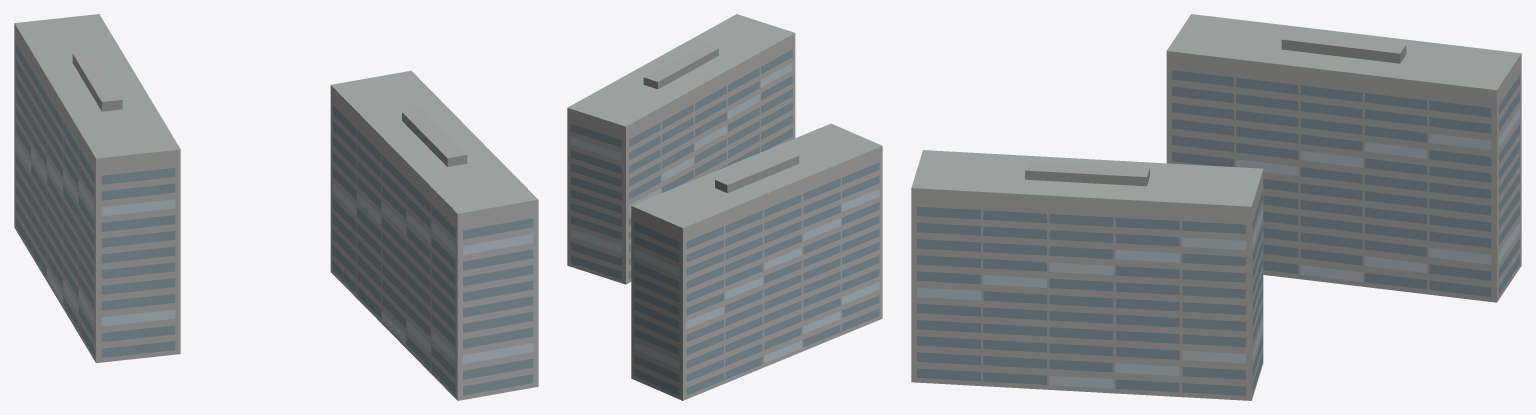
Rendered from apt-a13403001.glb.
3 views of the same model, side by side, from view 1: azimuth 30°, elevation 25°; view 2: azimuth 150°, elevation 25°; view 3: azimuth 270°, elevation 25° (orthographic). The views are drawn at different scales.
Visible parts, largest first — view 1: apt-a13403001; view 2: apt-a13403001; view 3: apt-a13403001.
Part boxes in pixels (box(x1,y1,x2,y2)): apt-a13403001: box(14, 14, 538, 400); apt-a13403001: box(567, 14, 882, 400); apt-a13403001: box(911, 14, 1521, 400).
Bounding box in the file's own units: 58.9 × 35 × 87.02.
